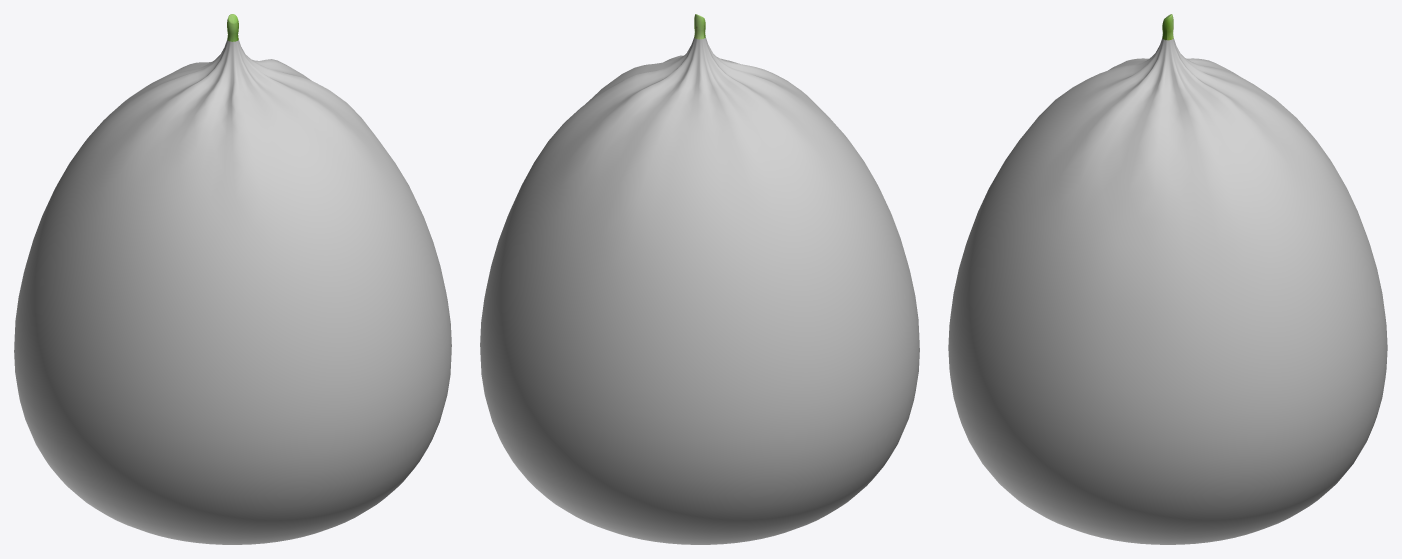
File: Fig.fbx
3 views of the same model, side by side, from view 1: azimuth 30°, elevation 25°; view 2: azimuth 150°, elevation 25°; view 3: azimuth 270°, elevation 25° (orthographic).
Parts seen in each view (by area): view 1: Sphere; view 2: Sphere; view 3: Sphere.
Part boxes in pixels (box(x1,y1,x2,y2)): Sphere: box(14, 14, 451, 544); Sphere: box(480, 14, 919, 544); Sphere: box(948, 14, 1387, 544).
Bounding box in the file's own units: 0.2059 × 0.2558 × 0.2059.
